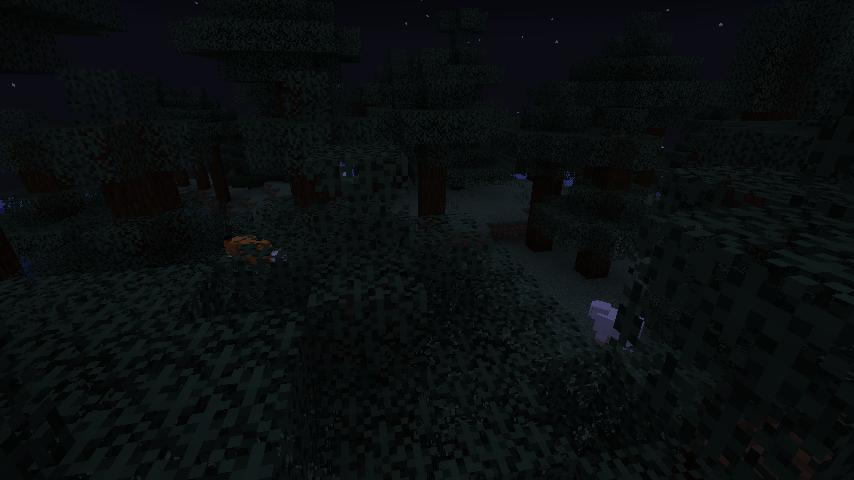fox: (216, 227, 294, 275)
sheep: (586, 298, 646, 359)
